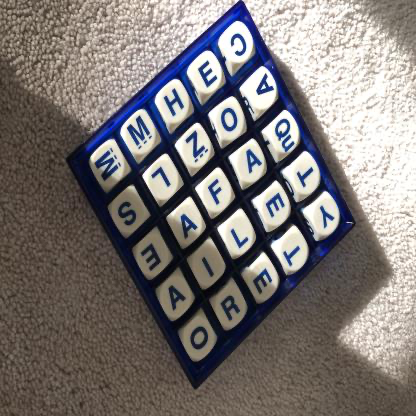a: (161, 276, 191, 322), (247, 69, 278, 112), (236, 142, 267, 183), (173, 204, 203, 246)
c: (224, 24, 254, 64)
e: (191, 52, 224, 96), (138, 234, 169, 278), (248, 260, 279, 301), (262, 187, 290, 228)
f: (203, 173, 233, 213)
h: (159, 80, 190, 125)
i: (194, 244, 223, 286)
l: (148, 159, 180, 203), (224, 216, 255, 258)
m: (93, 142, 126, 189), (126, 114, 158, 156)
o: (184, 315, 215, 361), (215, 102, 245, 143)
qu: (270, 114, 301, 156)
r: (216, 287, 246, 329)
s: (113, 192, 146, 234)
t: (291, 156, 320, 196), (280, 234, 310, 272)
y: (314, 198, 340, 237)
z: (181, 128, 213, 169)
